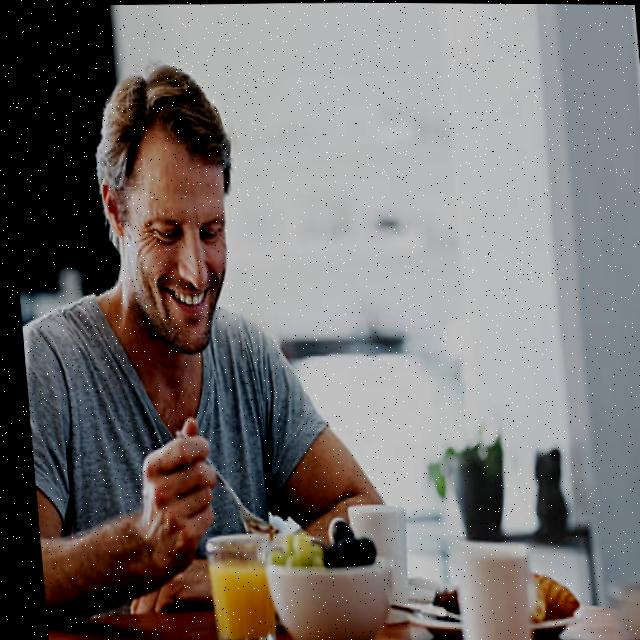eating-person: (3, 50, 425, 640)
